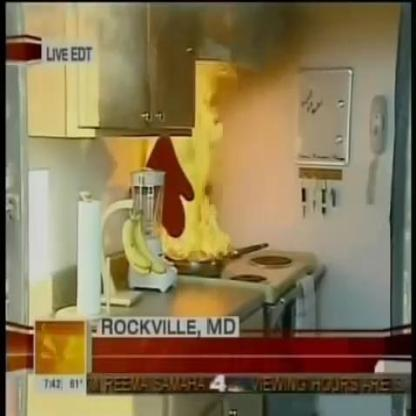fire: (162, 121, 232, 265)
